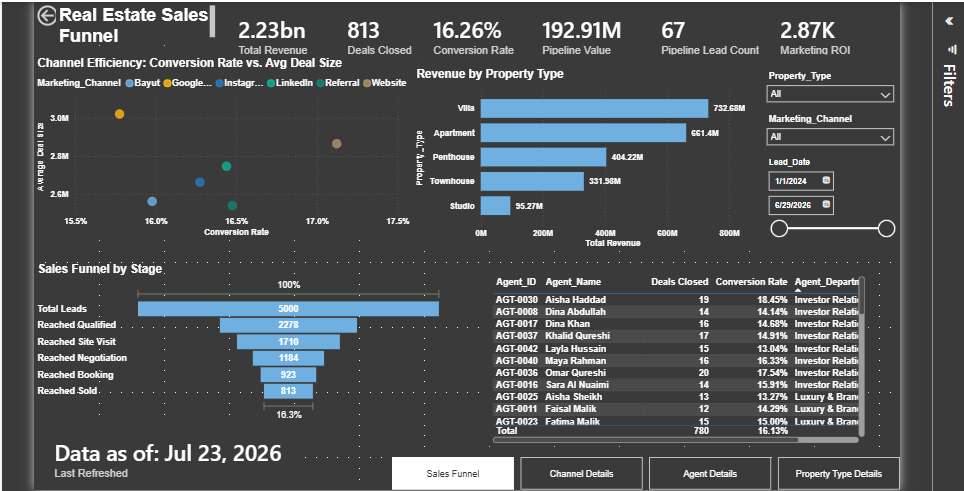

The page's visual inventory and layout, read from the dashboard file:
{"tool":"powerbi","page":{"name":" Sales Funnel","canvas":[1280,720],"ordinal":0},"visuals":[{"type":"funnel","title":"Sales Funnel by Stage","fields":{"Y":["silver leads.Total Leads","silver leads.Reached Qualified","silver leads.Reached Site Visit","silver leads.Reached Negotiation","silver leads.Reached Booking","silver leads.Reached Sold"]},"box":[0,384,608,240],"z":0},{"type":"cardVisual","title":"Deals Closed","fields":{"Data":["All_Sales.Deals Closed"]},"box":[432,0,160,96],"z":1000},{"type":"cardVisual","fields":{"Data":["silver leads.Conversion Rate"]},"box":[560,0,192,96],"z":2000},{"type":"cardVisual","fields":{"Data":["silver leads.Pipeline Lead Count"]},"box":[896,0,208,96],"z":3000},{"type":"cardVisual","fields":{"Data":["silver leads.Marketing ROI"]},"box":[1072,0,208,96],"z":4000},{"type":"cardVisual","fields":{"Data":["All_Sales.Total Revenue"]},"box":[272,0,192,96],"z":5000},{"type":"scatterChart","title":"Channel Efficiency: Conversion Rate vs. Avg Deal Size","fields":{"Series":["silver leads.Marketing_Channel"],"X":["silver leads.Conversion Rate"],"Y":["All_Sales.Average Deal Size"]},"box":[16,112,560,272],"z":6000},{"type":"slicer","fields":{"Values":["silver leads.Lead_Date"]},"box":[1072,224,208,144],"z":7000},{"type":"slicer","fields":{"Values":["silver leads.Marketing_Channel"]},"box":[1072,160,208,64],"z":8000},{"type":"slicer","fields":{"Values":["silver properties.Property_Type"]},"box":[1072,96,208,64],"z":9000},{"type":"barChart","title":"Revenue by Property Type","fields":{"Category":["silver properties.Property_Type"],"Y":["All_Sales.Total Revenue"]},"box":[624,384,656,272],"z":10000},{"type":"tableEx","fields":{"Values":["silver agents.Agent_ID","silver agents.Agent_Name","All_Sales.Deals Closed","silver leads.Conversion Rate"]},"box":[576,112,496,272],"z":11000},{"type":"actionButton","box":[0,0,100,40],"z":12000},{"type":"textbox","box":[32,0,240,96],"z":13000},{"type":"cardVisual","fields":{"Data":["silver leads.Pipeline Value"]},"box":[720,0,176,96],"z":14000},{"type":"pageNavigator","box":[528,672,752,48],"z":15000},{"type":"cardVisual","fields":{"Data":["All_Sales.Last Refreshed"]},"box":[0,624,400,96],"z":16000}]}

Visuals, with their boxes on the page's 1280x720 design canvas (x1, y1, x2, y2). These are canvas units, not pixel positions in the 964x491 screenshot, which may show the page scaled, cropped or inside an application window:
"Sales Funnel by Stage" funnel: {"left": 0, "top": 384, "right": 608, "bottom": 624}
"Deals Closed" cardVisual: {"left": 432, "top": 0, "right": 592, "bottom": 96}
cardVisual - silver leads.Conversion Rate: {"left": 560, "top": 0, "right": 752, "bottom": 96}
cardVisual - silver leads.Pipeline Lead Count: {"left": 896, "top": 0, "right": 1104, "bottom": 96}
cardVisual - silver leads.Marketing ROI: {"left": 1072, "top": 0, "right": 1280, "bottom": 96}
cardVisual - All_Sales.Total Revenue: {"left": 272, "top": 0, "right": 464, "bottom": 96}
"Channel Efficiency: Conversion Rate vs. Avg Deal Size" scatterChart: {"left": 16, "top": 112, "right": 576, "bottom": 384}
slicer - silver leads.Lead_Date: {"left": 1072, "top": 224, "right": 1280, "bottom": 368}
slicer - silver leads.Marketing_Channel: {"left": 1072, "top": 160, "right": 1280, "bottom": 224}
slicer - silver properties.Property_Type: {"left": 1072, "top": 96, "right": 1280, "bottom": 160}
"Revenue by Property Type" barChart: {"left": 624, "top": 384, "right": 1280, "bottom": 656}
tableEx - silver agents.Agent_ID x silver agents.Agent_Name: {"left": 576, "top": 112, "right": 1072, "bottom": 384}
actionButton: {"left": 0, "top": 0, "right": 100, "bottom": 40}
textbox: {"left": 32, "top": 0, "right": 272, "bottom": 96}
cardVisual - silver leads.Pipeline Value: {"left": 720, "top": 0, "right": 896, "bottom": 96}
pageNavigator: {"left": 528, "top": 672, "right": 1280, "bottom": 720}
cardVisual - All_Sales.Last Refreshed: {"left": 0, "top": 624, "right": 400, "bottom": 720}
